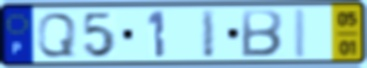1: (147, 9, 168, 59)
5: (81, 11, 119, 59)
B: (238, 8, 285, 59)
I: (200, 8, 218, 60), (292, 7, 309, 60)
Q: (36, 11, 79, 59)
